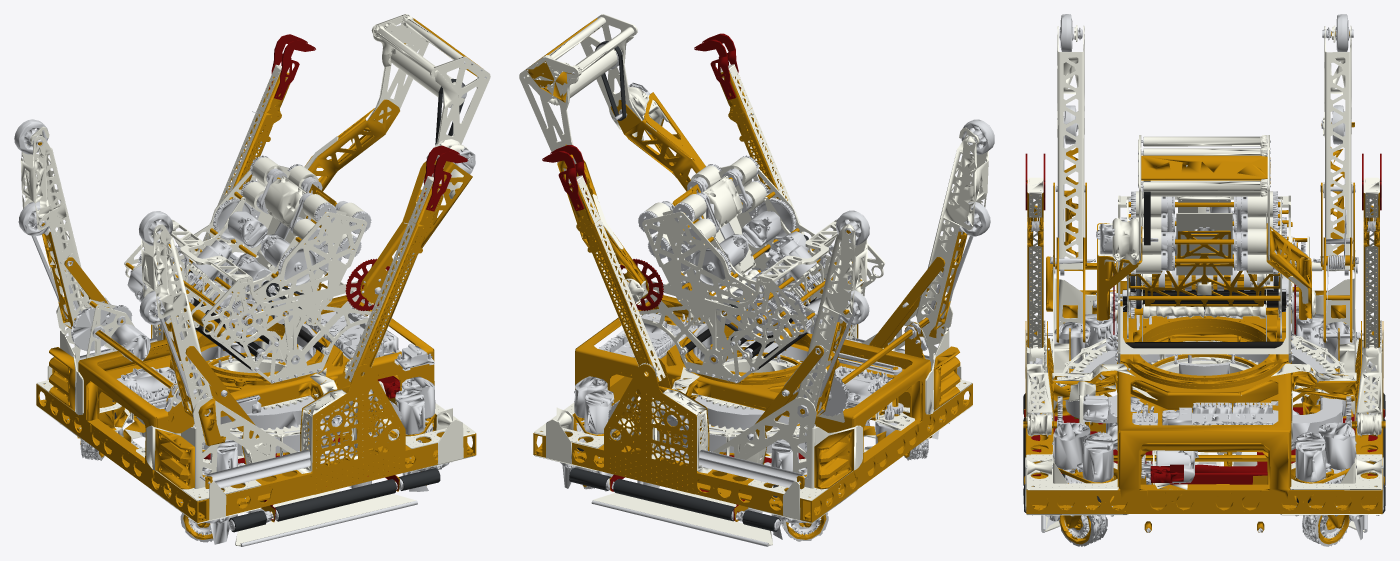
Rendered from twister-118.glb.
The picture shows the model from 3 angles, left to right: view 1: azimuth 30°, elevation 25°; view 2: azimuth 150°, elevation 25°; view 3: azimuth 270°, elevation 25°; orthographic projection. The views are drawn at different scales.
Parts seen in each view (by area): view 1: frame, shooter, diverter, ski-left, intake, ski-right, climber-left, climber-right, turret; view 2: frame, shooter, diverter, ski-right, intake, ski-left, climber-right, climber-left, turret; view 3: frame, shooter, diverter, ski-right, ski-left, intake, turret, climber-left, climber-right.
Part boxes in pixels (box(x1,y1,x2,y2)): frame: box(36, 139, 476, 544); shooter: box(124, 155, 379, 383); diverter: box(304, 14, 490, 310); ski-left: box(14, 119, 89, 328); intake: box(116, 414, 440, 546); ski-right: box(139, 211, 212, 417); climber-left: box(344, 145, 468, 382); climber-right: box(203, 34, 315, 241); turret: box(136, 319, 329, 457); frame: box(533, 228, 972, 541); shooter: box(633, 155, 884, 383); diverter: box(519, 14, 705, 310); ski-right: box(916, 119, 994, 331); intake: box(569, 420, 875, 546); ski-left: box(797, 210, 869, 417); climber-right: box(542, 145, 665, 382); climber-left: box(694, 33, 804, 234); turret: box(680, 319, 914, 443); frame: box(1023, 29, 1385, 546); shooter: box(1095, 191, 1297, 380); diverter: box(1093, 135, 1315, 334); ski-right: box(1055, 14, 1085, 275); ski-left: box(1321, 14, 1354, 275); intake: box(1023, 388, 1385, 532); turret: box(1126, 315, 1282, 389); climber-left: box(1025, 153, 1045, 348); climber-right: box(1362, 153, 1381, 348).
Bounding box in the file's own units: 0.9411 × 0.924 × 0.6985.
